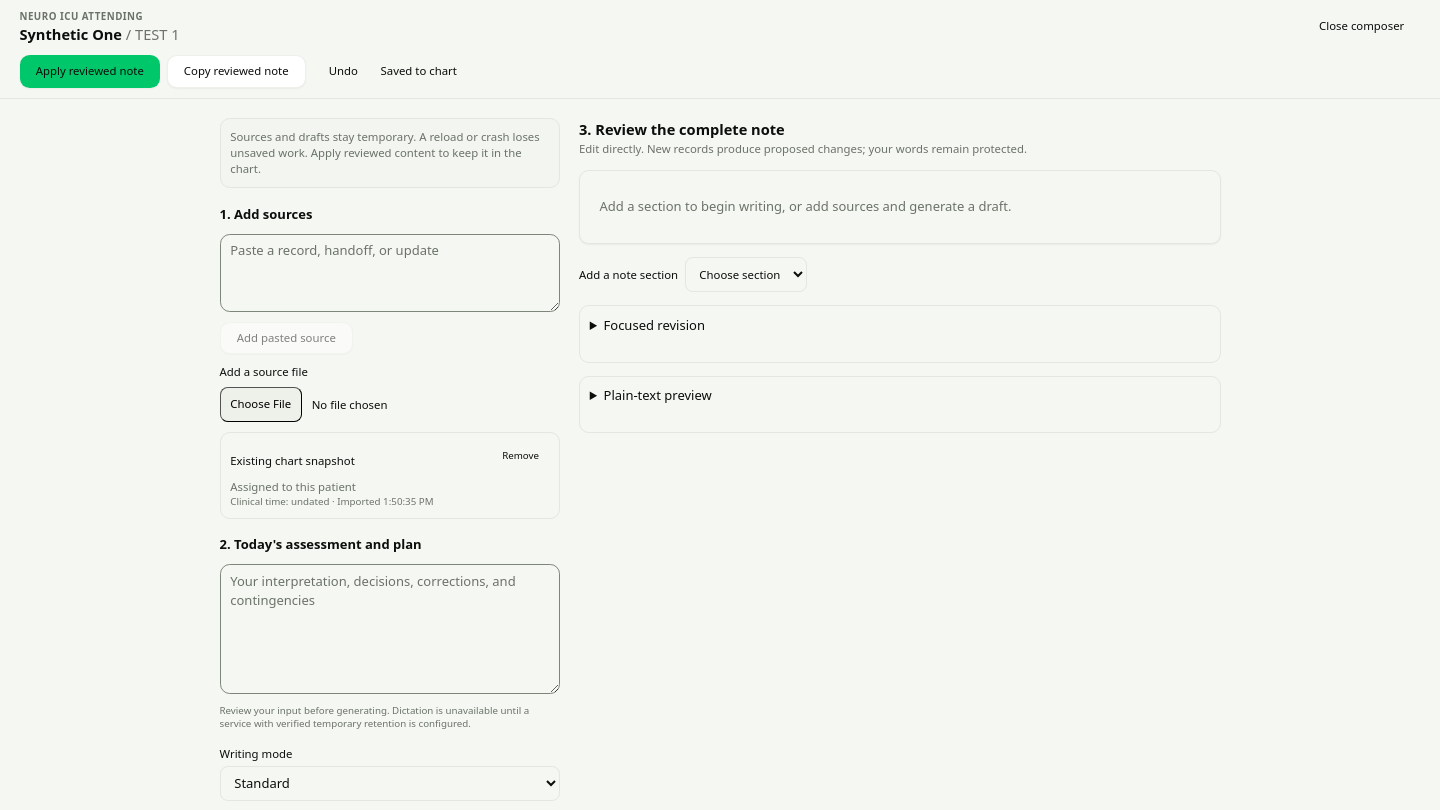
it: source intake shows quarantine until clinician confirms patient-specific selection
In the text box named "Paste source text": (390, 273) [220,234,560,312], type "Synthetic source"
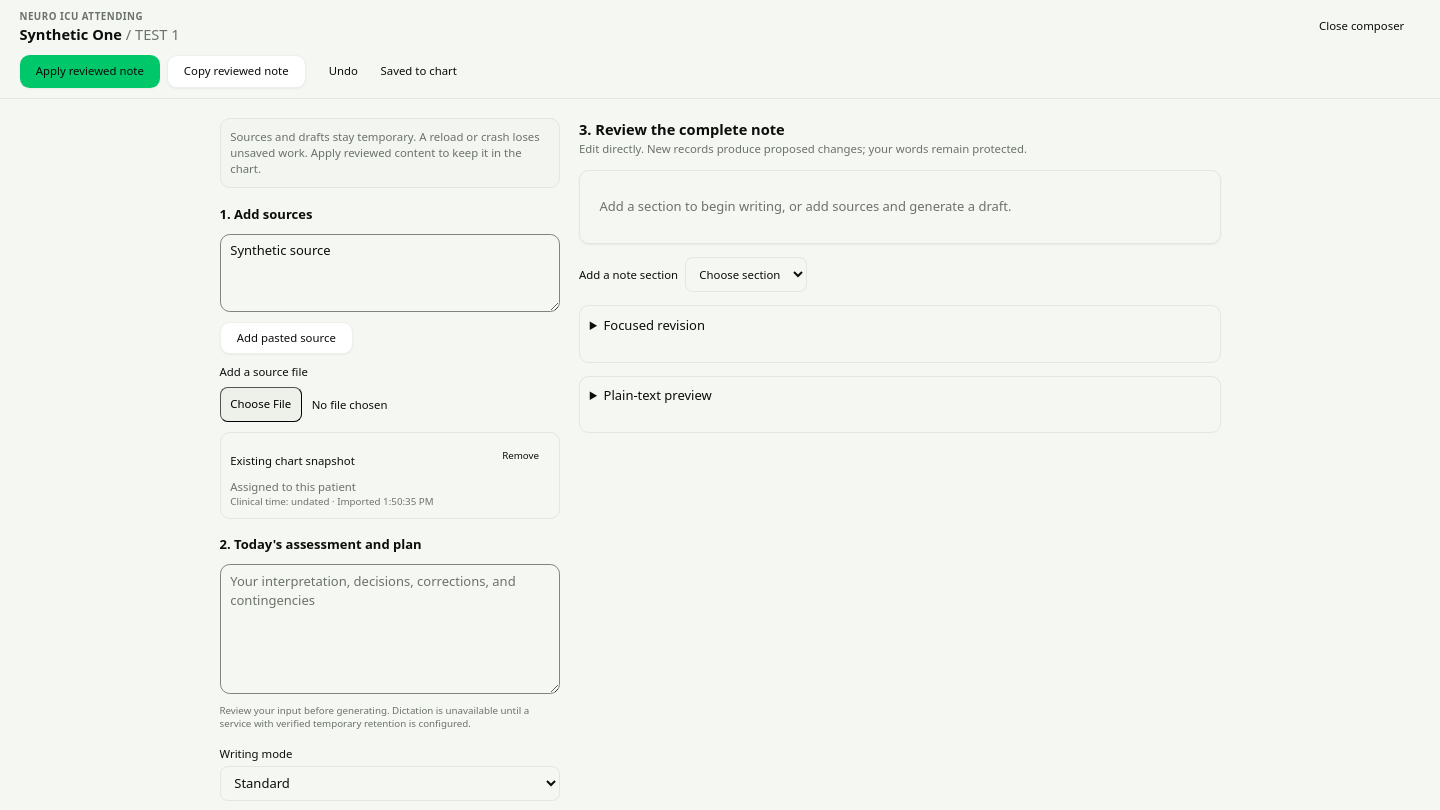
Click the button "Add pasted source": (286, 338) [220,322,353,354]
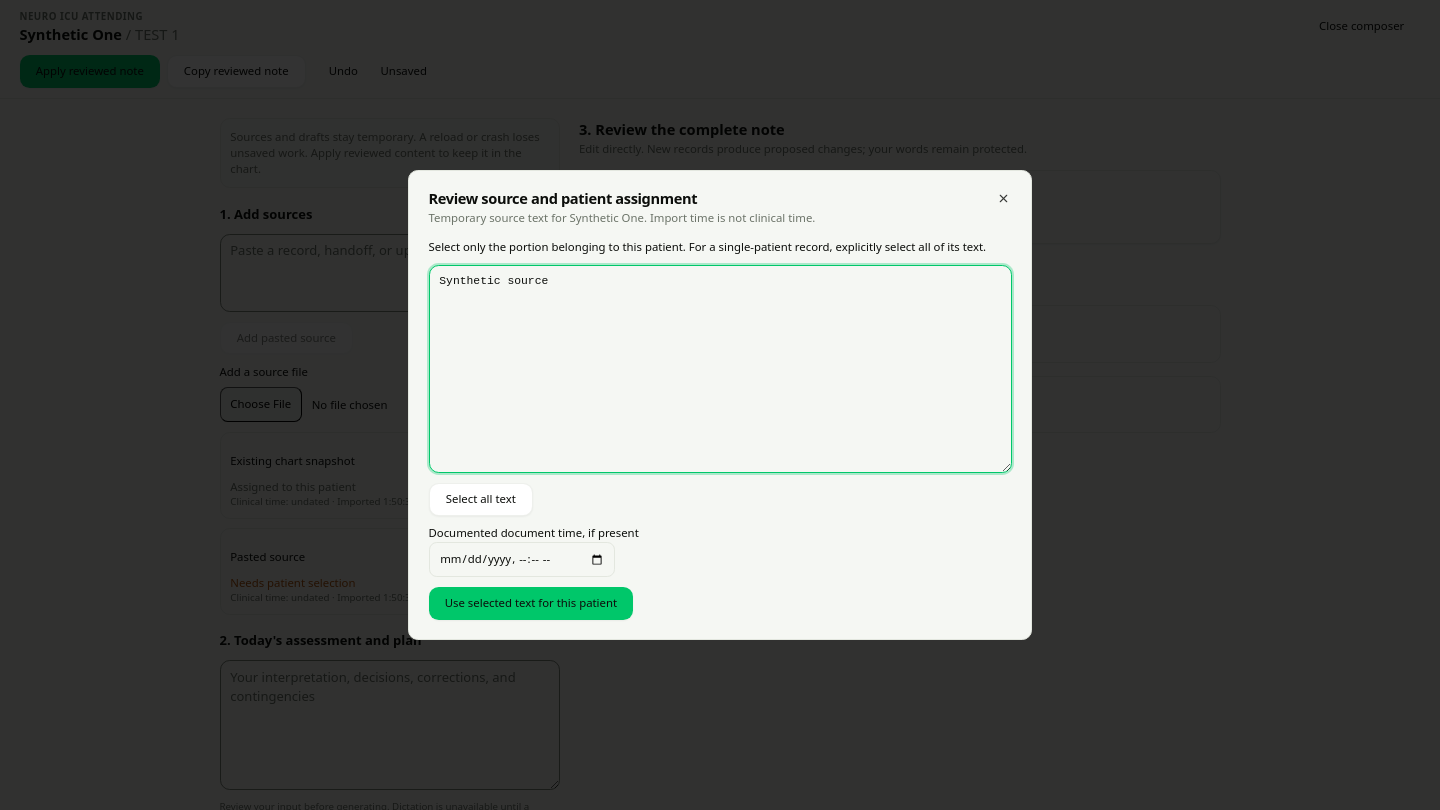
Now the text "Needs patient selection" is shown, box [230,575,356,590]
